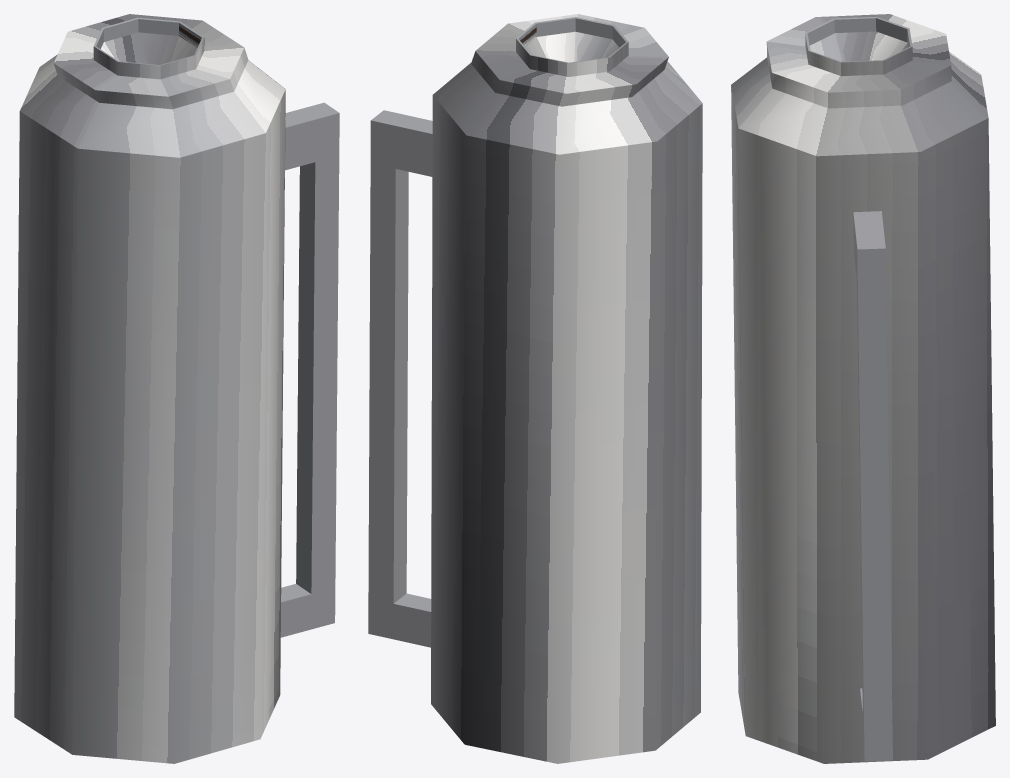
Rendered from H_CoffeeThermos.fbx.
3 renders of one model, left to right at view 1: azimuth 30°, elevation 25°; view 2: azimuth 150°, elevation 25°; view 3: azimuth 270°, elevation 25°, orthographic.
Visible parts, largest first — view 1: CoffeeThermos; view 2: CoffeeThermos; view 3: CoffeeThermos.
Part boxes in pixels (x1=…): CoffeeThermos: x1=14, y1=14, x2=339, y2=763; CoffeeThermos: x1=368, y1=14, x2=702, y2=763; CoffeeThermos: x1=731, y1=14, x2=995, y2=763.
Bounding box in the file's own units: 23.91 × 51.2 × 18.33.
